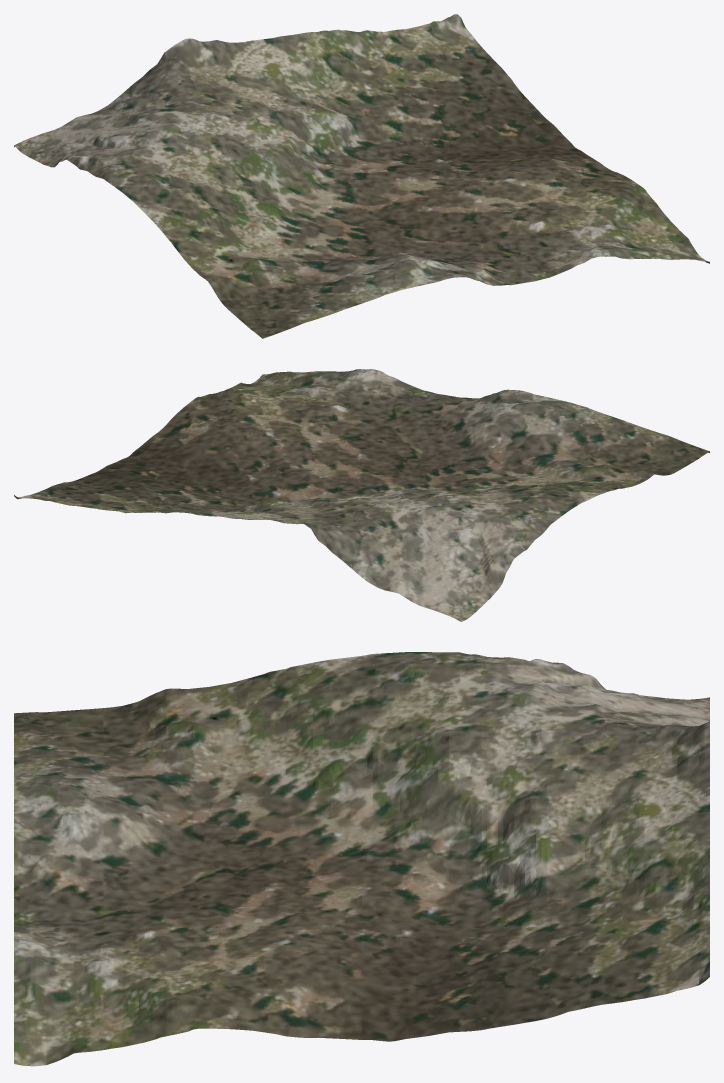
3 renders of one model, top to bottom at view 1: azimuth 30°, elevation 25°; view 2: azimuth 150°, elevation 25°; view 3: azimuth 270°, elevation 25°, orthographic. The views are drawn at different scales.
Size of the model in its own units: 250 by 59.76 by 241.
Materials: 1 (1 with a texture image).
